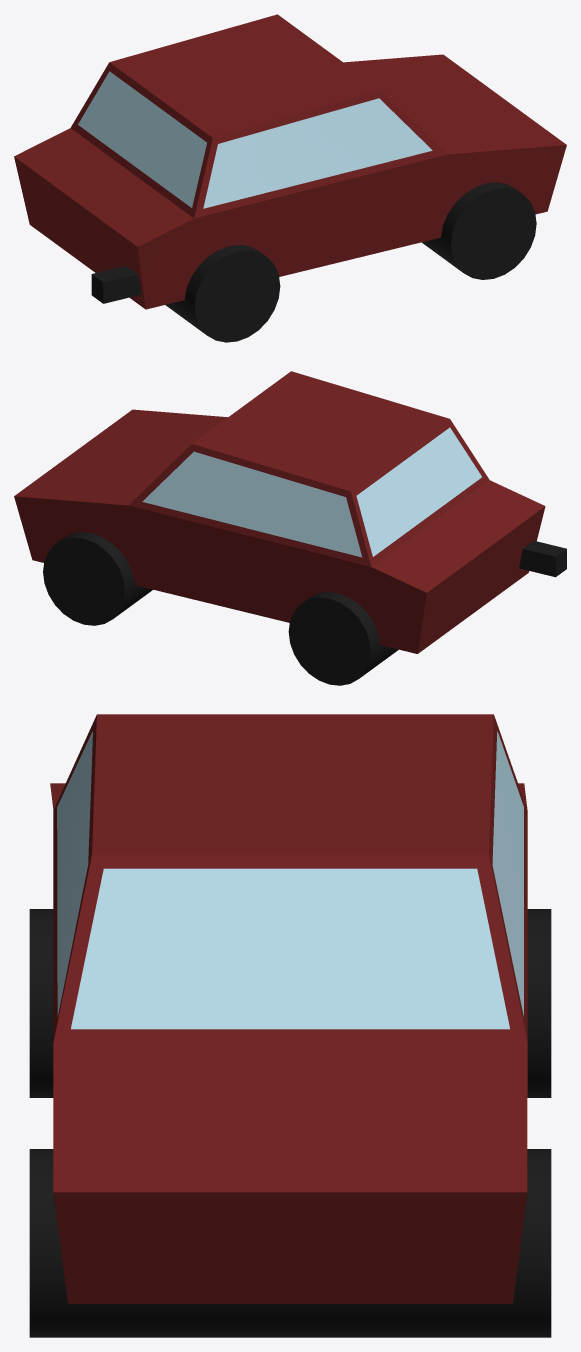
File: car copy.dae
3 views of the same model, one above another, from view 1: azimuth 30°, elevation 25°; view 2: azimuth 150°, elevation 25°; view 3: azimuth 270°, elevation 25° (orthographic). The views are drawn at different scales.
Parts seen in each view (by area): view 1: Cube, Cylinder, Cylinder.1, Exhaust; view 2: Cube, Cylinder.1, Cylinder, Exhaust; view 3: Cube, Cylinder.1, Cylinder.
Part boxes in pixels (x1,y1,x2,y2): Cube: (14, 14, 566, 309); Cylinder: (165, 244, 280, 342); Cylinder.1: (422, 182, 536, 279); Exhaust: (91, 265, 141, 303); Cube: (14, 371, 545, 653); Cylinder.1: (43, 532, 152, 625); Cylinder: (288, 592, 398, 685); Exhaust: (519, 540, 566, 577); Cube: (50, 714, 527, 1303); Cylinder.1: (29, 1149, 551, 1337); Cylinder: (29, 909, 551, 1097).
Bounding box in the file's own units: 33.84 × 14.13 × 17.39.
